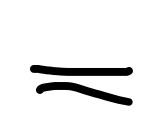eqv: (29, 65, 133, 106)
